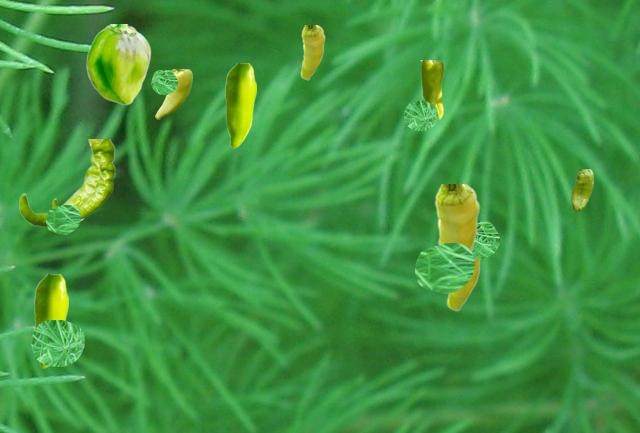green_chili: (19, 139, 114, 227), (86, 24, 150, 104), (52, 162, 114, 220), (432, 184, 479, 252), (34, 274, 67, 367), (225, 63, 255, 147), (446, 258, 481, 310), (155, 69, 191, 118), (300, 25, 324, 79), (420, 60, 442, 118), (571, 169, 592, 210)
